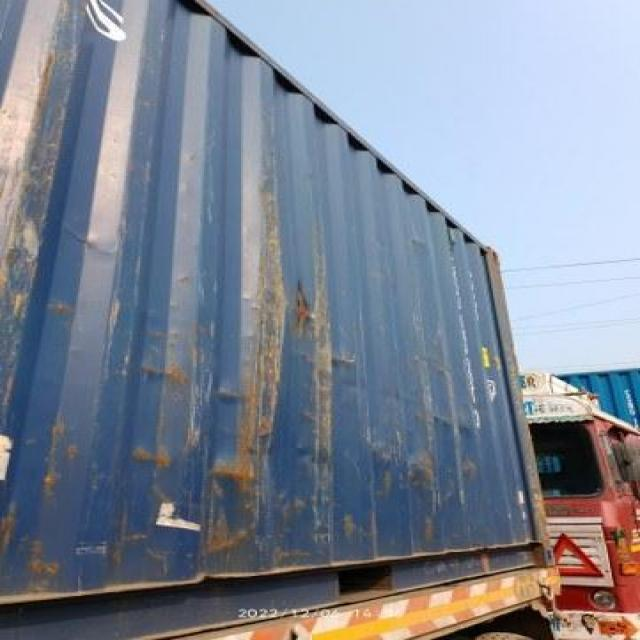rust: (193, 444, 266, 516), (283, 277, 326, 345)
